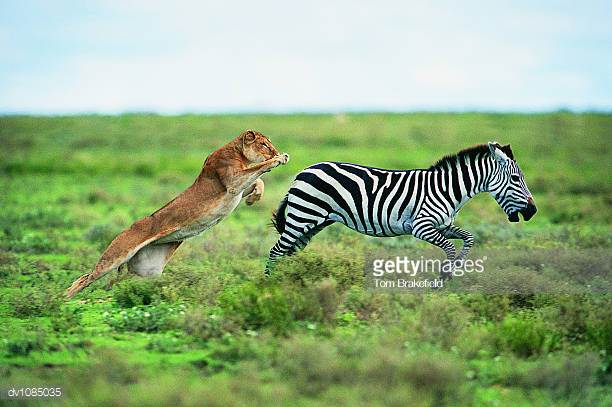lion: (71, 124, 286, 302)
zebra: (264, 143, 538, 287)
